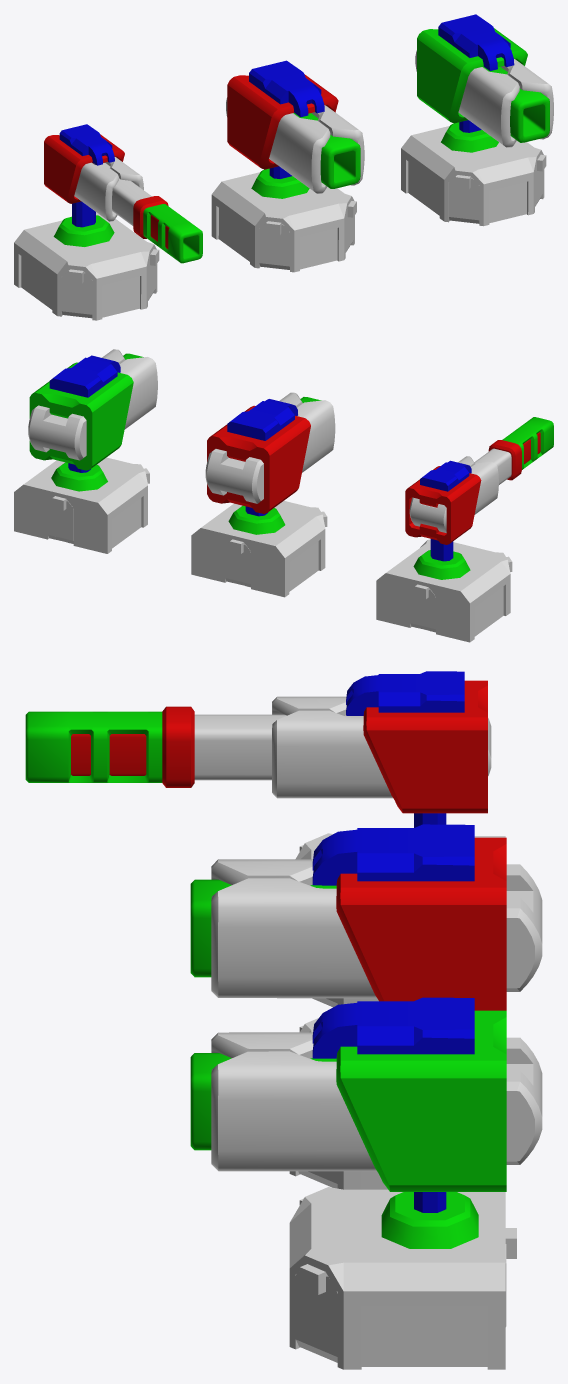
The model's file is Laser_Turret01test04.FBX.
3 views of the same model, one above another, from view 1: azimuth 30°, elevation 25°; view 2: azimuth 150°, elevation 25°; view 3: azimuth 270°, elevation 25° (orthographic). The views are drawn at different scales.
Visible parts, largest first — view 1: Box179, Box189, Box194, Box188, Box193, Box187, Box192, Box175, Box173, Box174, Box186, Box191 (+4 smaller); view 2: Box179, Box189, Box194, Box193, Box188, Box175, Object219, Object208, Box173, Box187, Box192, Box180 (+5 smaller); view 3: Box194, Box193, Box188, Box192, Box187, Box175, Box173, Box174, Object187, Box195, Object208, Object219 (+3 smaller).
Part boxes in pixels (box(x1,y1,x2,y2)): Box179: box(14, 212, 159, 320); Box189: box(211, 172, 356, 272); Box194: box(401, 126, 546, 226); Box188: box(227, 60, 338, 169); Box193: box(417, 14, 527, 123); Box187: box(269, 105, 364, 193); Box192: box(458, 59, 553, 147); Box175: box(44, 124, 124, 203); Box173: box(133, 196, 202, 263); Box174: box(74, 157, 143, 221); Box186: box(293, 113, 360, 188); Box191: box(483, 66, 549, 142); Box179: box(376, 539, 512, 642); Box189: box(191, 501, 327, 597); Box194: box(14, 457, 149, 553); Box193: box(29, 355, 133, 470); Box188: box(207, 399, 310, 513); Box175: box(405, 460, 481, 544); Object219: box(28, 405, 86, 460); Object208: box(205, 449, 263, 503); Box173: box(488, 417, 553, 480); Box187: box(279, 392, 335, 472); Box192: box(102, 349, 157, 429); Box180: box(413, 539, 470, 579); Box194: box(289, 1187, 516, 1369); Box193: box(312, 997, 506, 1191); Box188: box(312, 824, 506, 1010); Box192: box(211, 1032, 376, 1171); Box187: box(211, 859, 376, 998); Box175: box(346, 671, 487, 813); Box173: box(25, 706, 194, 787); Box174: box(272, 696, 392, 798); Object187: box(194, 714, 363, 780); Box195: box(381, 1192, 478, 1248); Object208: box(506, 864, 542, 991); Object219: box(506, 1037, 542, 1164).
Size of the model in its own units: 742 by 364 by 241.
